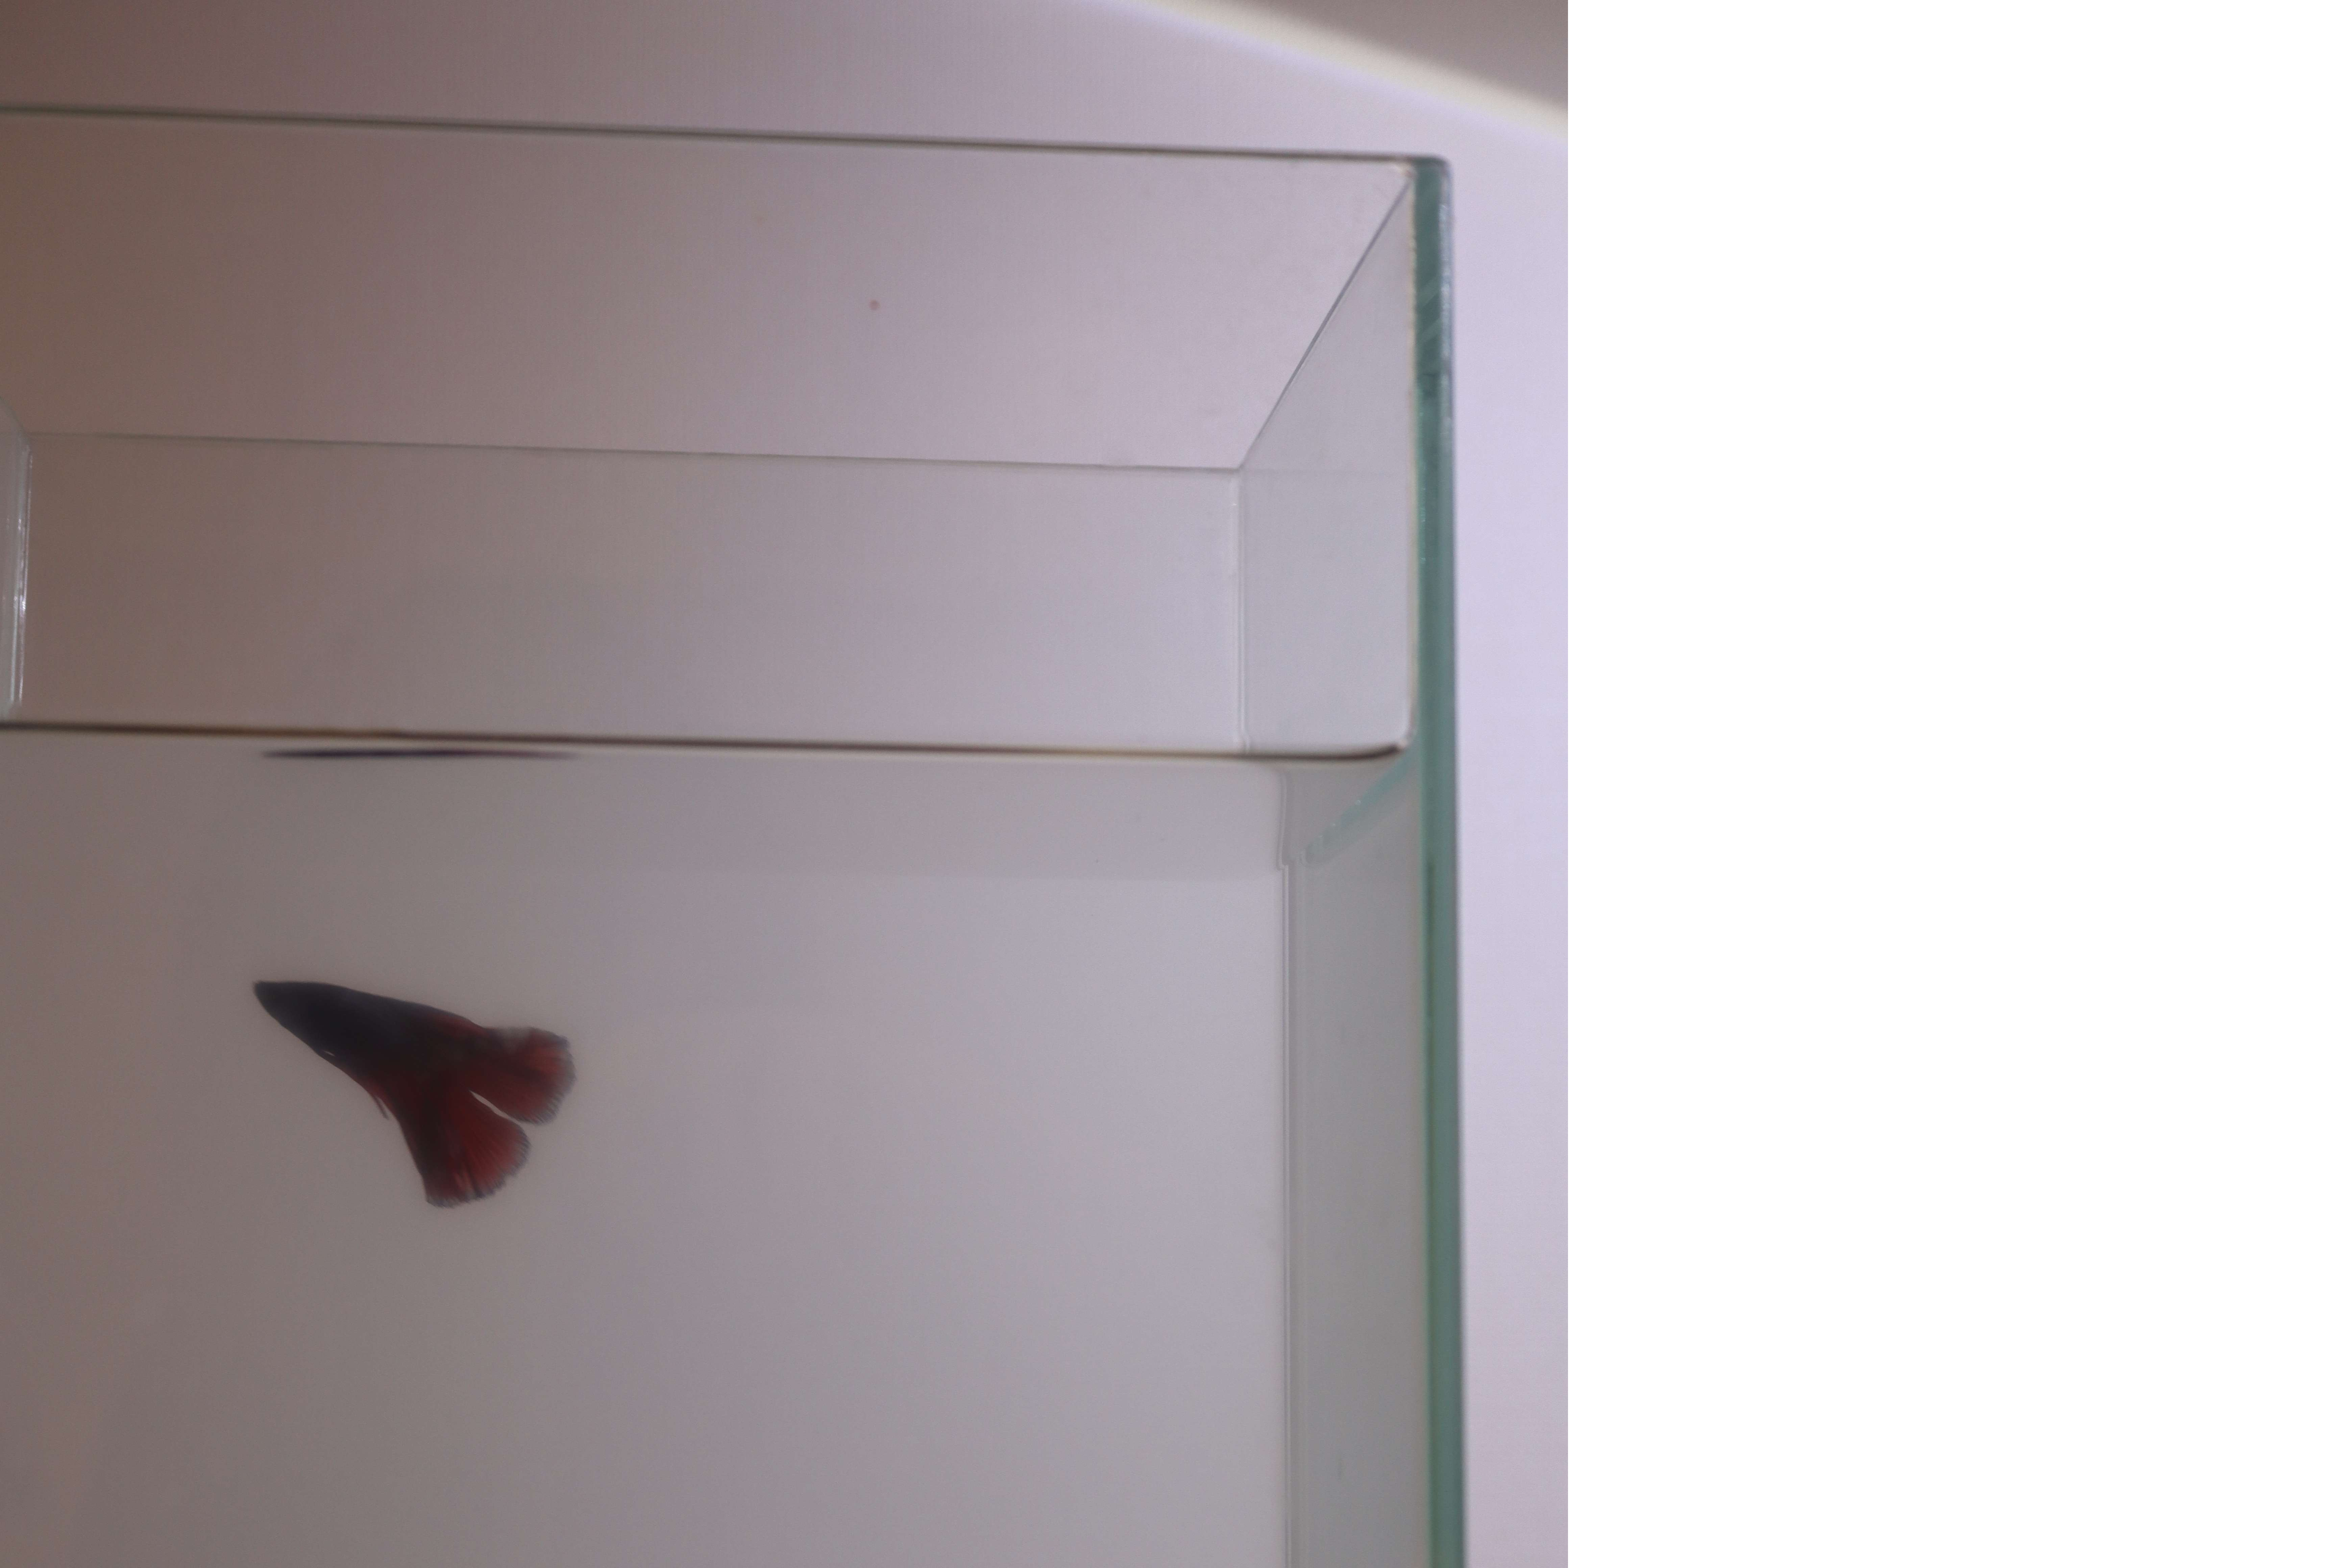fish: (245, 954, 595, 1218)
